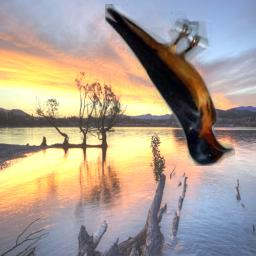Swallow: (105, 4, 235, 166)
